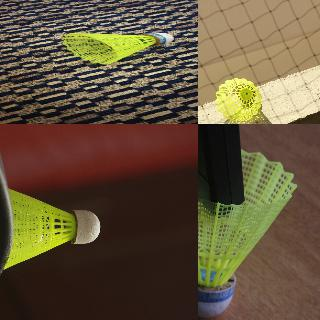shuttlecock: (198, 146, 296, 317), (9, 189, 100, 267), (61, 32, 174, 64), (215, 78, 261, 122)
